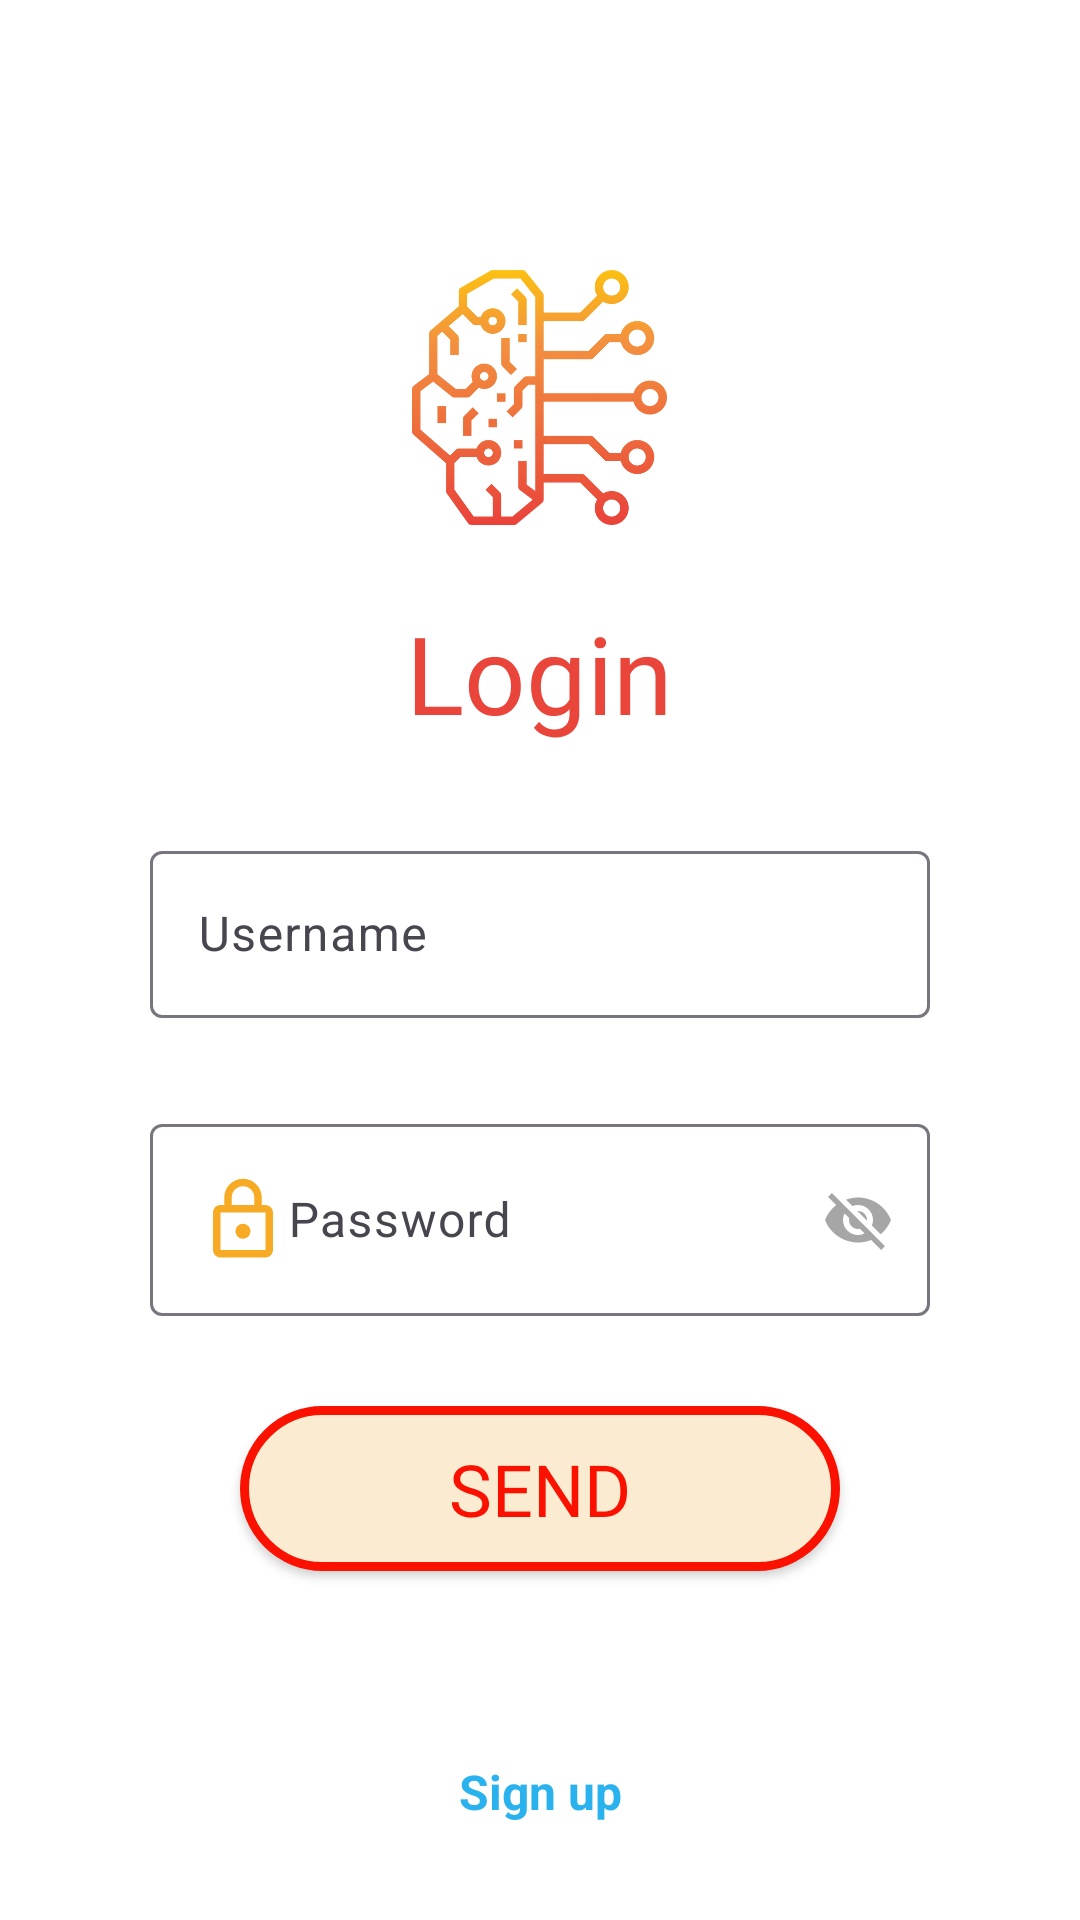

Named icons in this screenshot (1080x1920) and their bounding boxes, (x1, y1, x2, y2):
brain: (412, 270, 667, 525)
